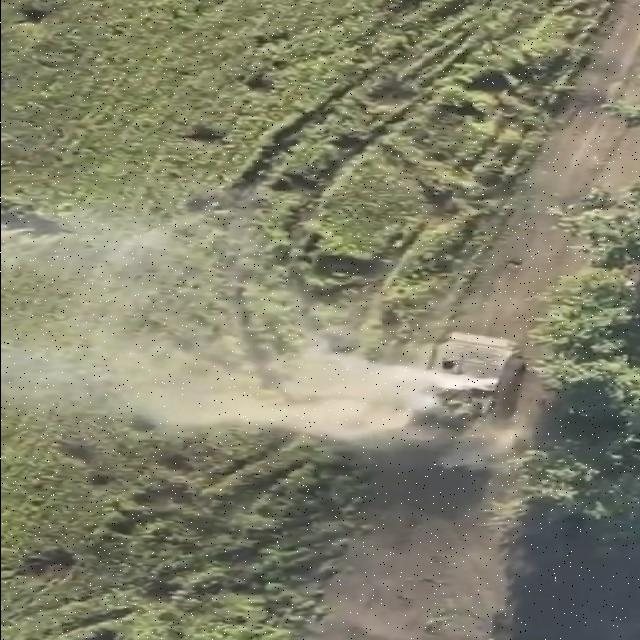APC-IFV: (378, 331, 516, 449)
